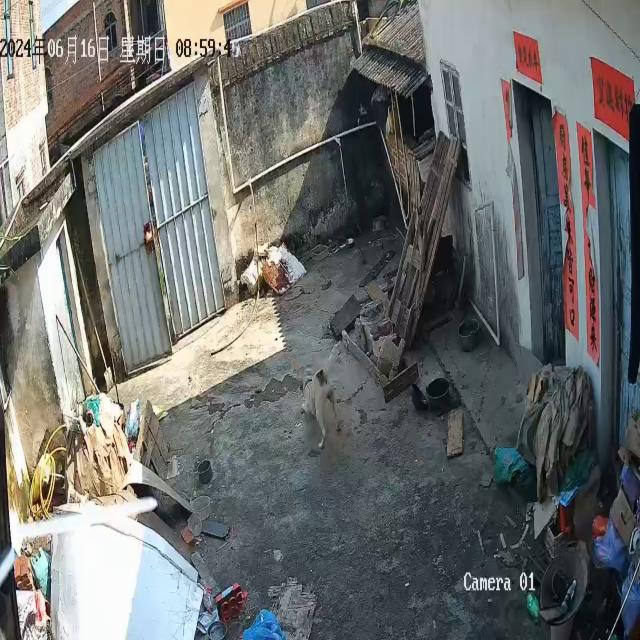dog: (300, 368, 343, 451)
